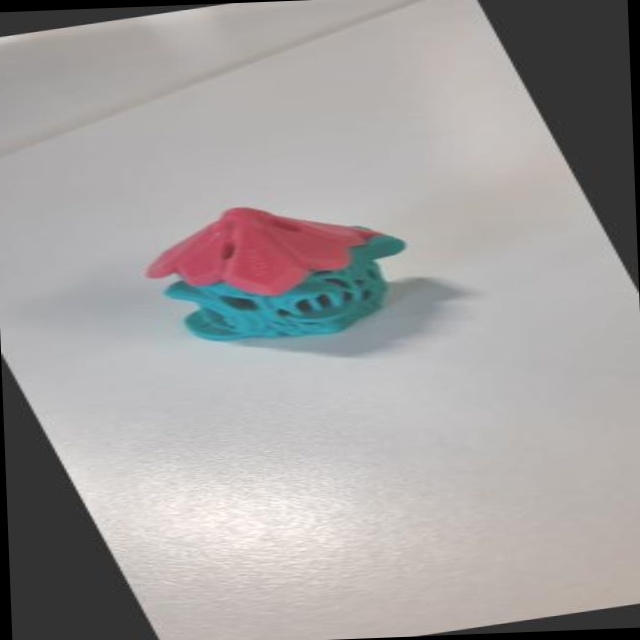House: (90, 162, 521, 385)
